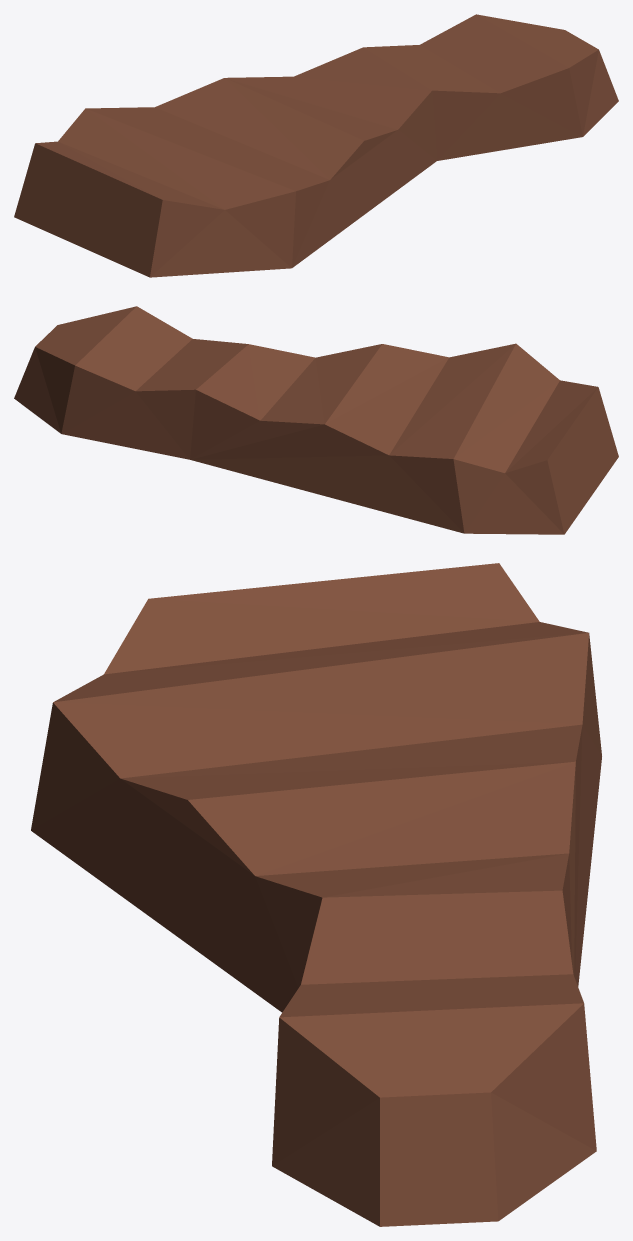
File: Streak.glb
The picture shows the model from 3 angles, top to bottom: view 1: azimuth 30°, elevation 25°; view 2: azimuth 150°, elevation 25°; view 3: azimuth 270°, elevation 25°; orthographic projection. The views are drawn at different scales.
Parts seen in each view (by area): view 1: Streak; view 2: Streak; view 3: Streak.
Part boxes in pixels (box(x1,y1,x2,y2)): Streak: box(14, 14, 618, 277); Streak: box(14, 306, 618, 534); Streak: box(31, 563, 601, 1226).
Bounding box in the file's own units: 0.2636 × 0.031 × 0.1168.
